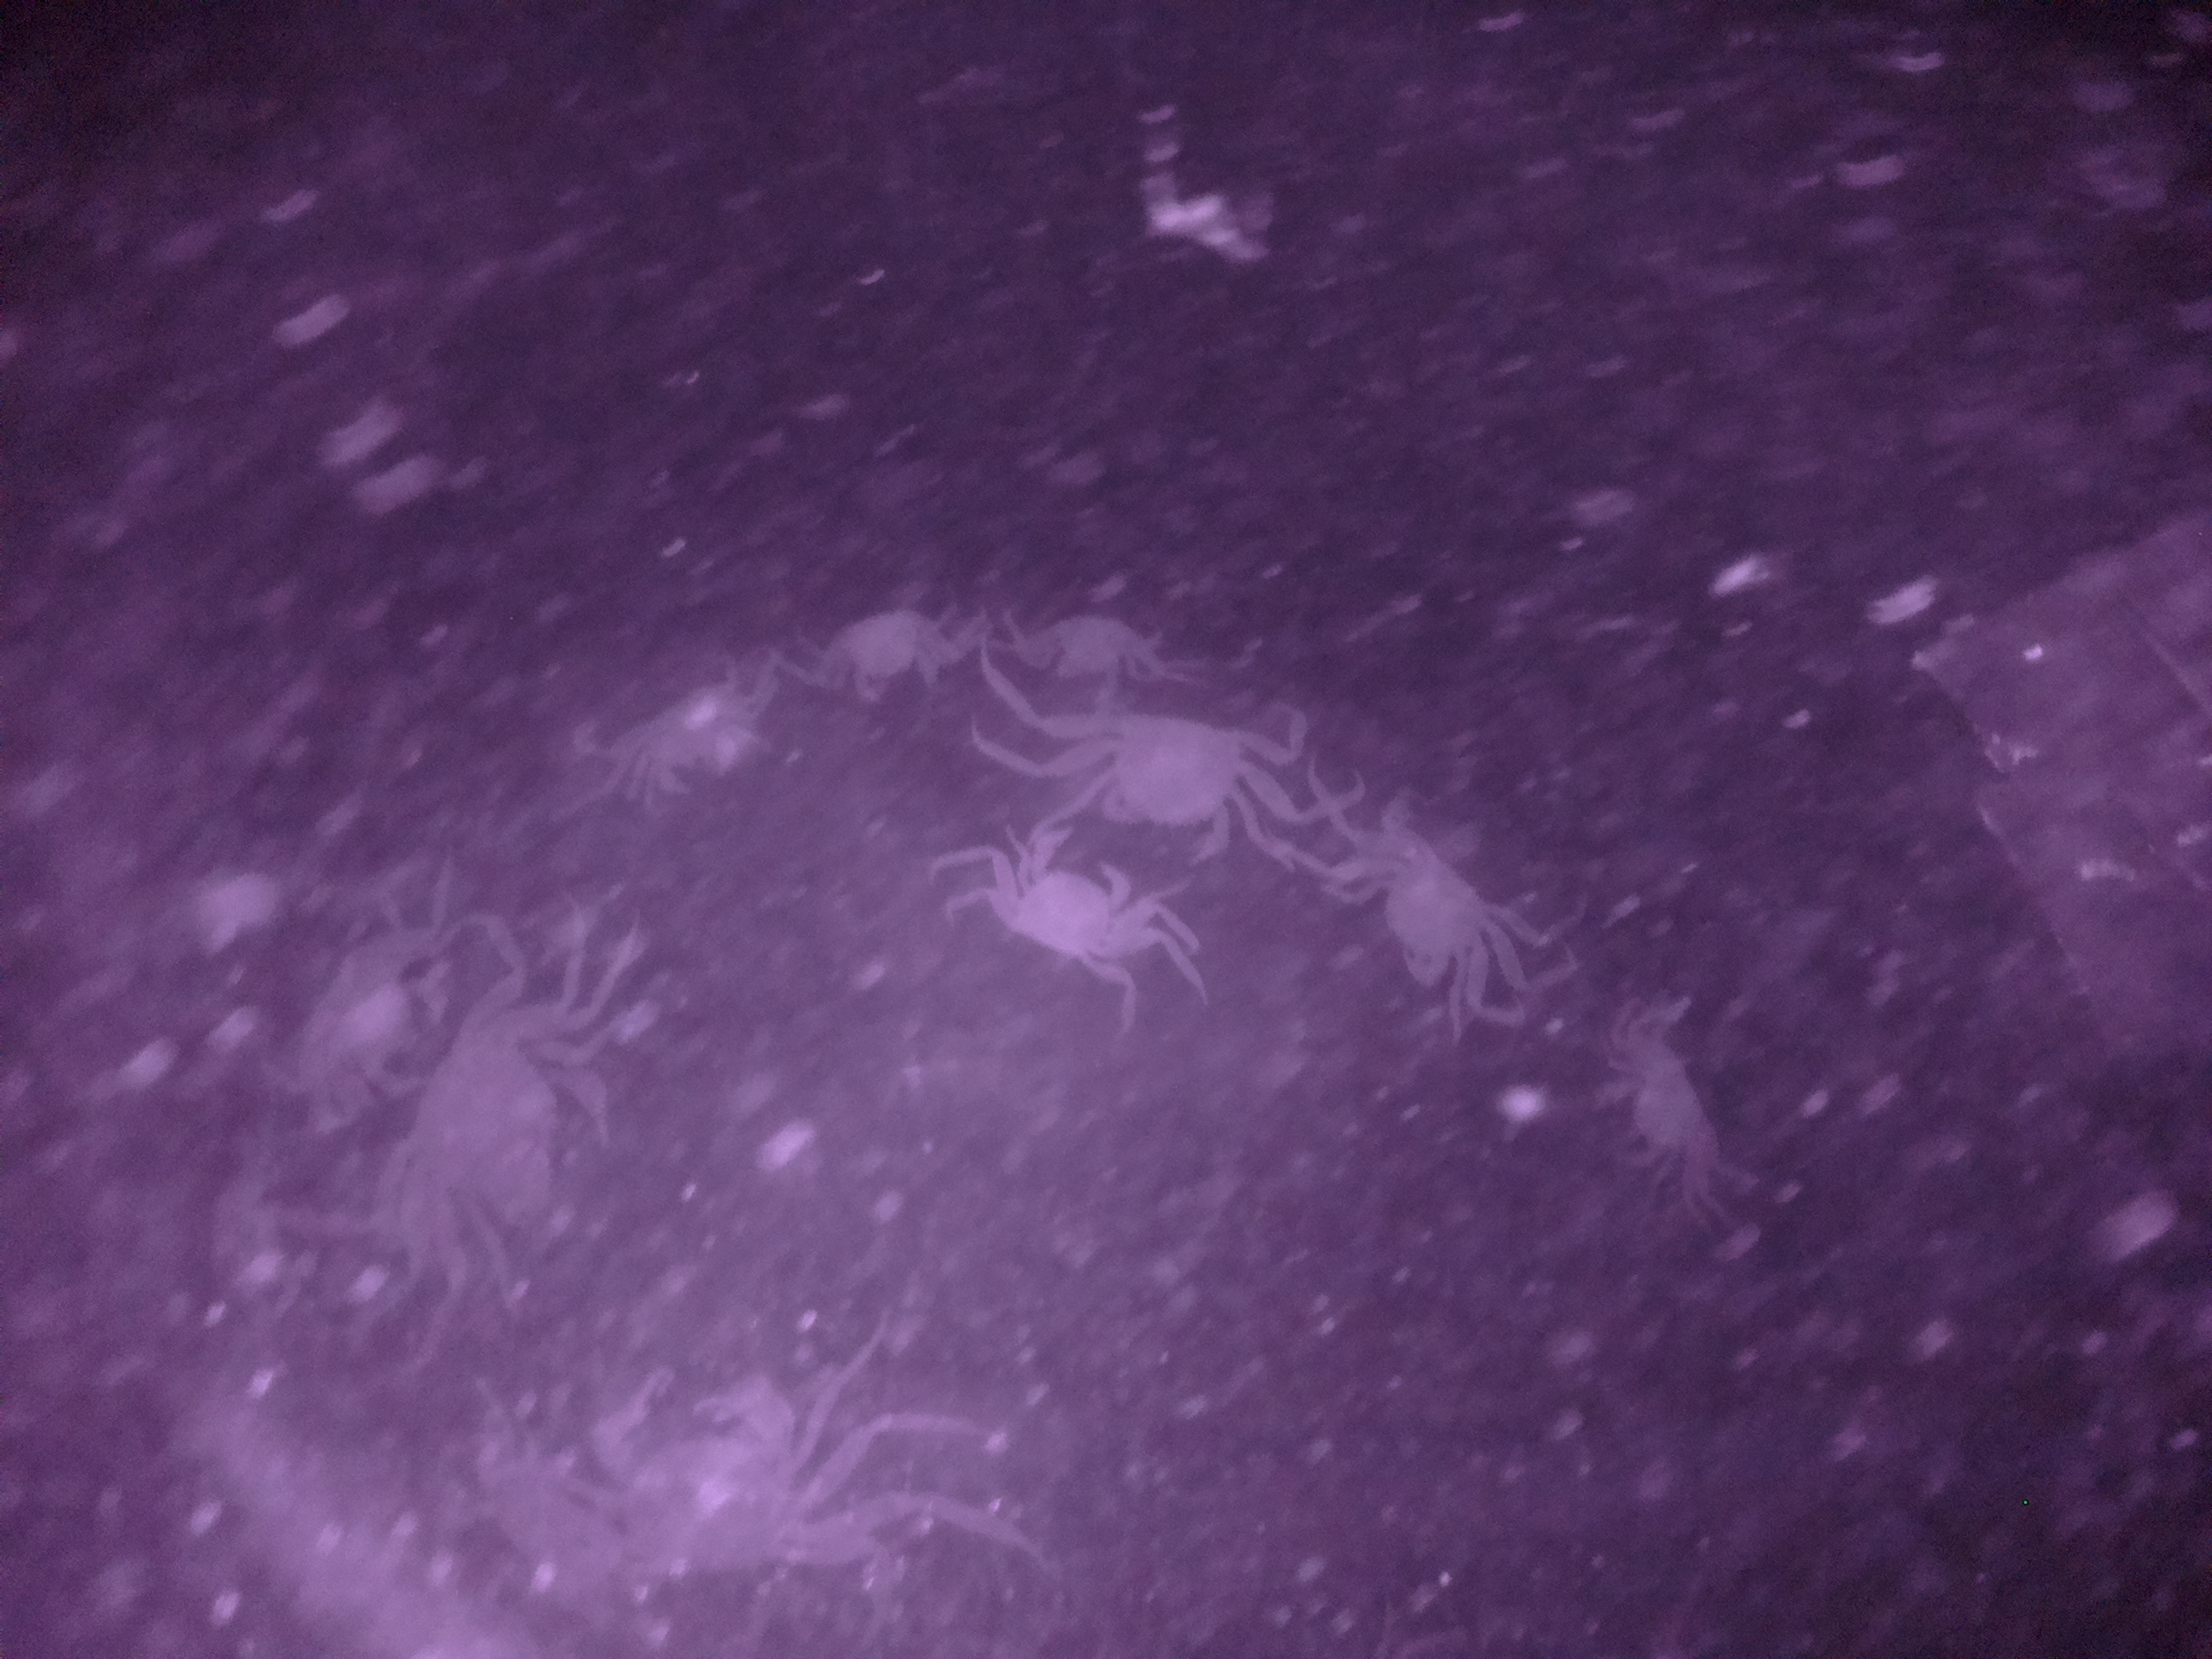Crab: (1054, 681, 1275, 871), (963, 800, 1176, 979), (1325, 807, 1526, 986)
